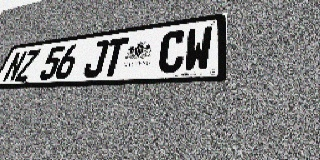5: (38, 46, 66, 80)
6: (53, 43, 81, 79)
C: (157, 29, 186, 74)
J: (81, 40, 110, 78)
N: (1, 51, 28, 82)
T: (100, 37, 129, 77)
W: (183, 26, 213, 72)
Z: (14, 49, 41, 82)
